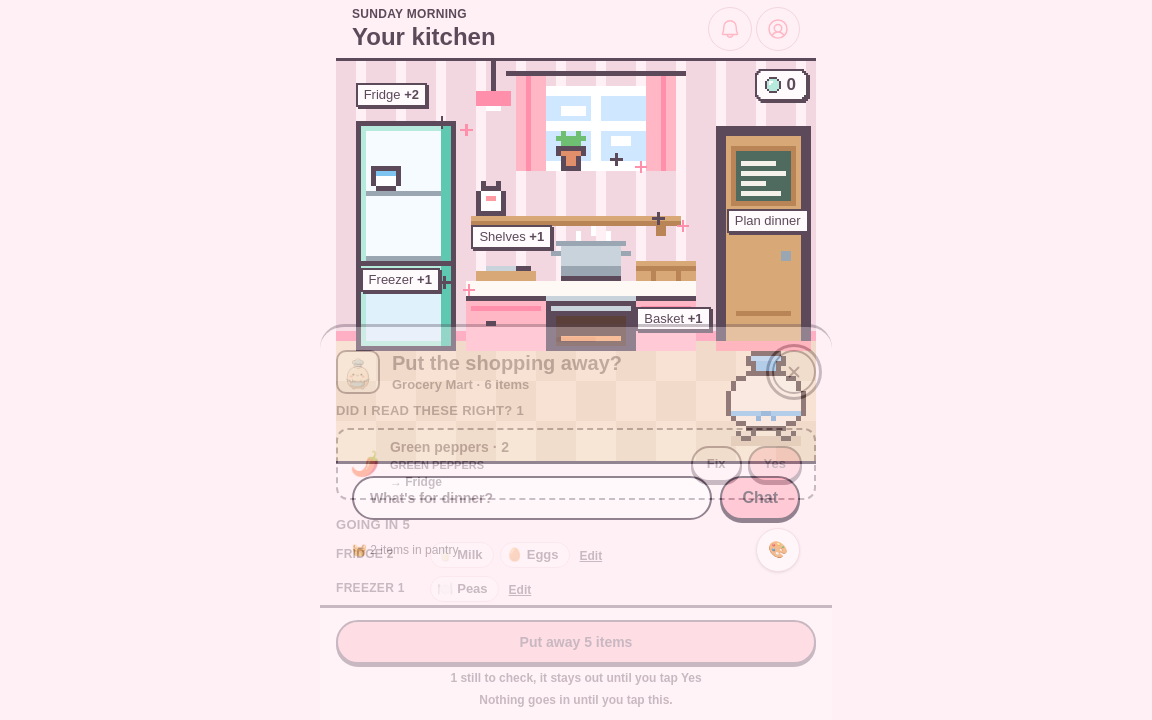
the items hop into their places after a successful put-away › under reduced motion nothing flies: the counts just update
Click the button "Put away 5 items": (576, 642) x1=336 y1=620 x2=816 y2=664
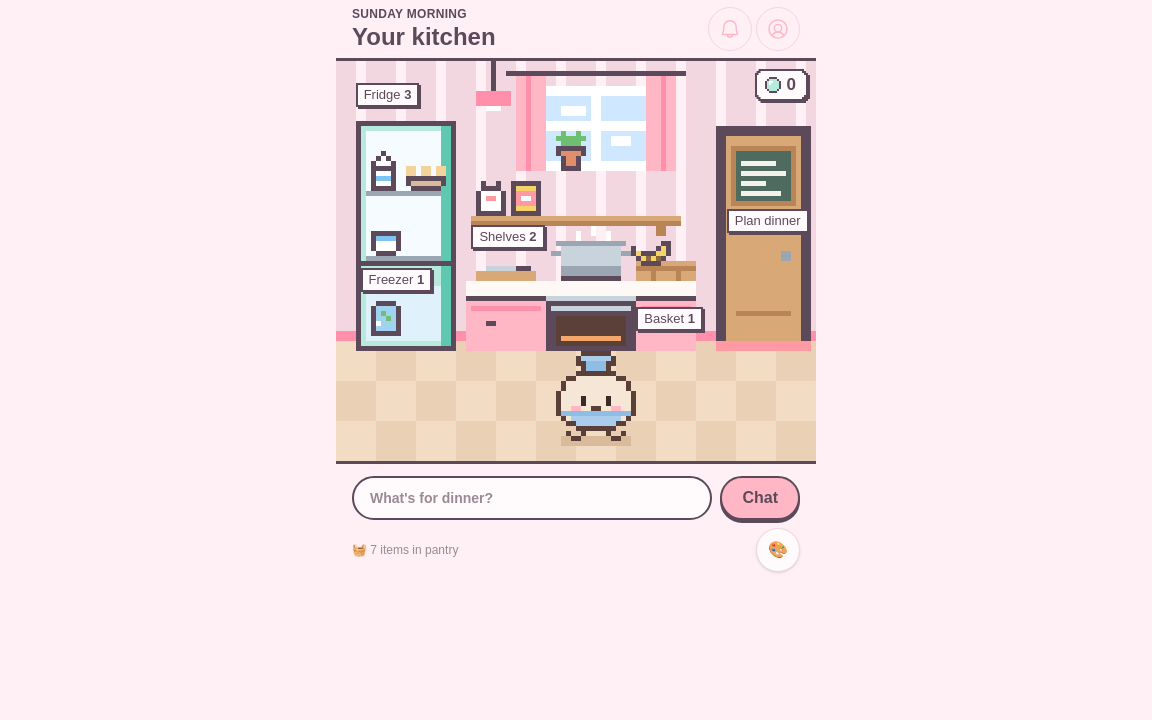
Result: the button "Fridge 3" is shown at x1=356 y1=83 x2=456 y2=266
